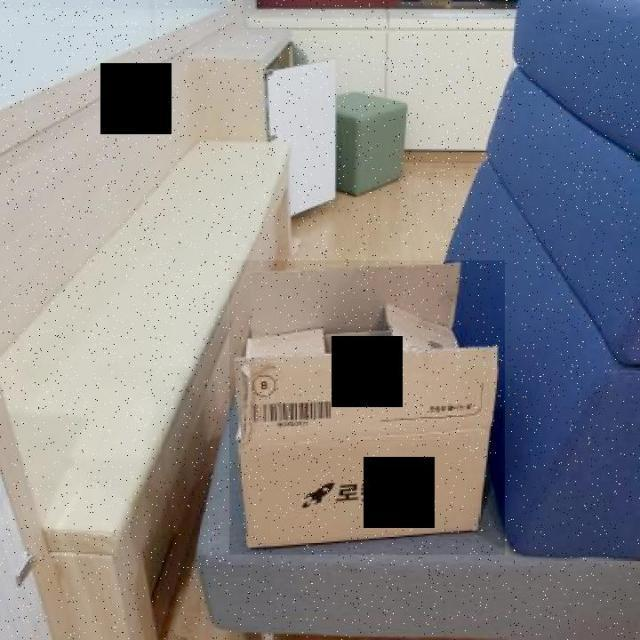box: (230, 260, 506, 554)
